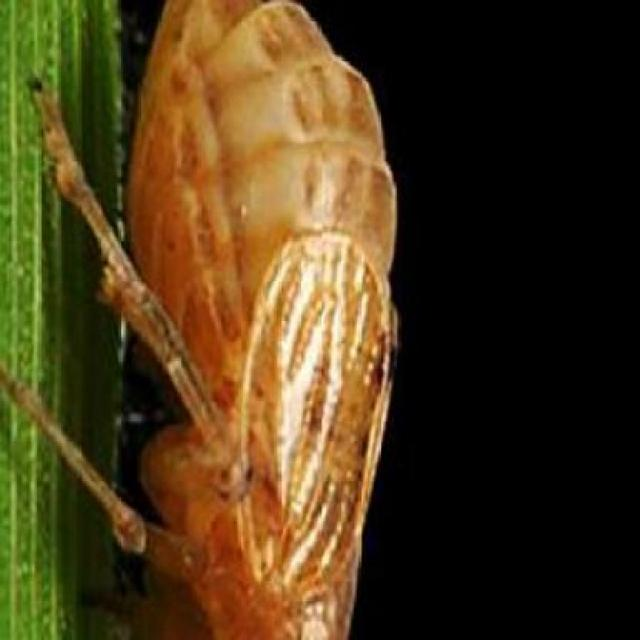brown-planthopper: (110, 0, 396, 640)
